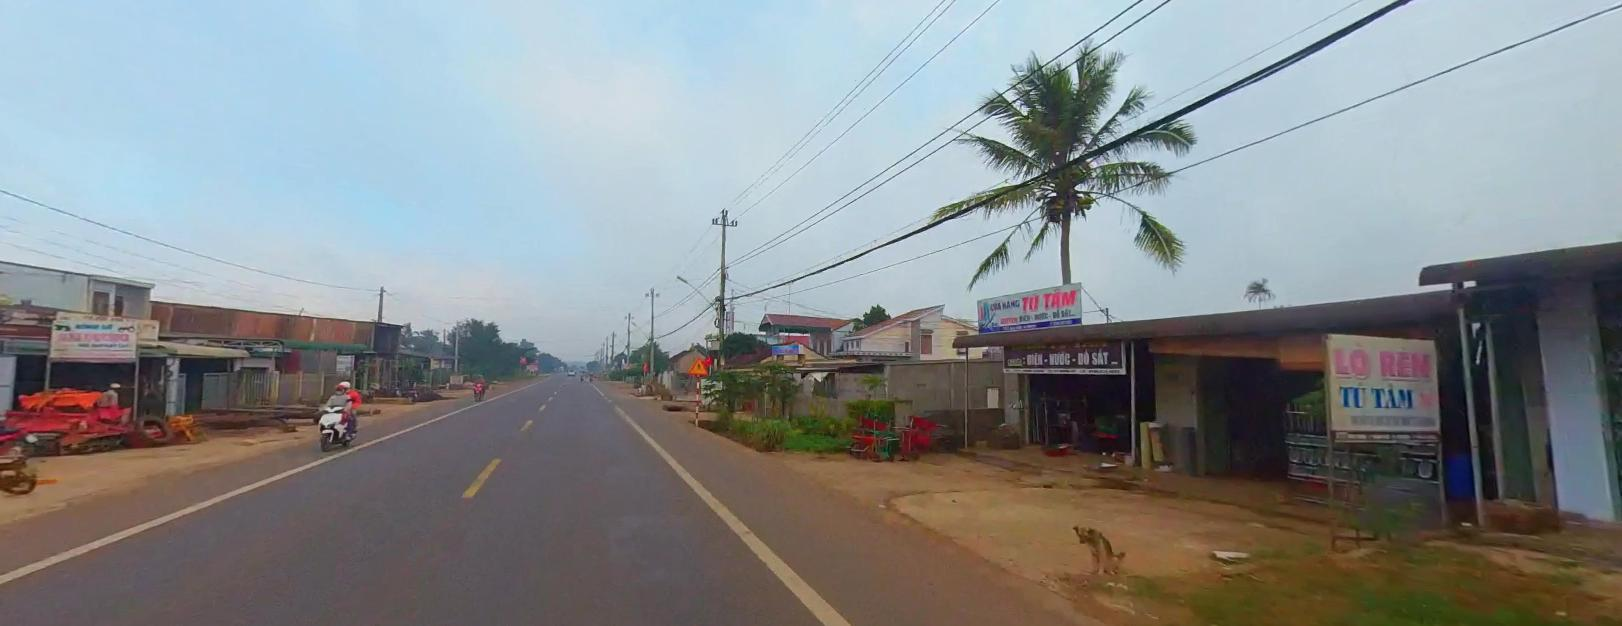Nguy hiem: (689, 357, 708, 374)
